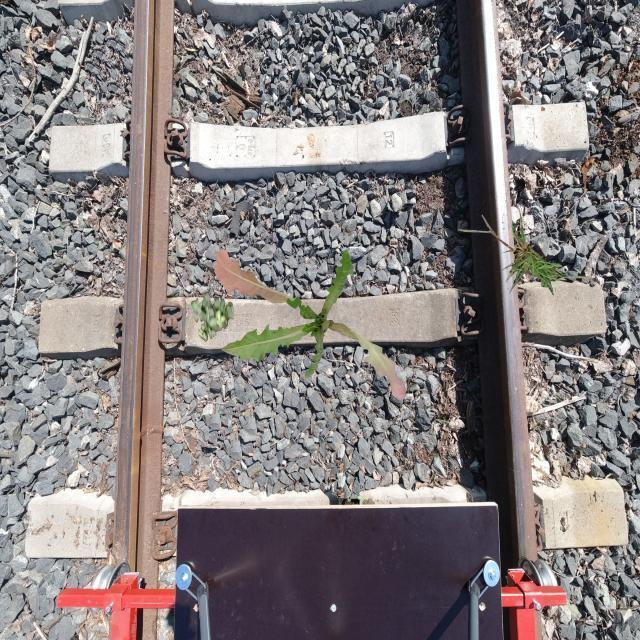Plant: (213, 248, 406, 400), (458, 206, 602, 296), (191, 292, 234, 342)
